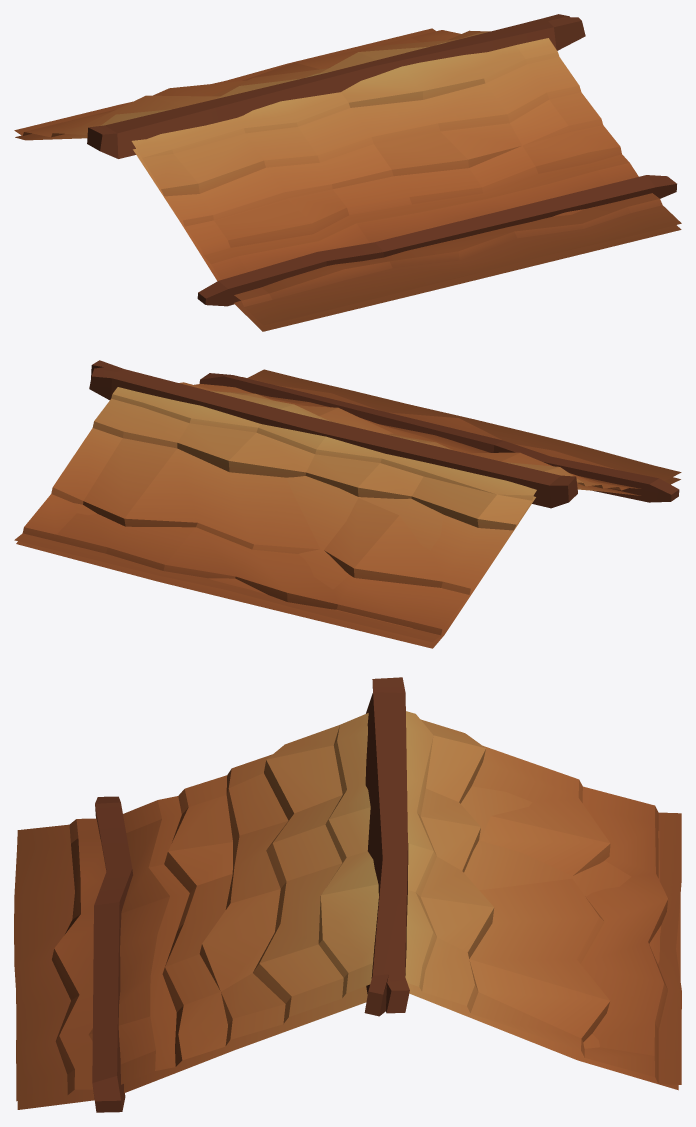
The model's file is Shanty Preset 07 Roof.fbx.
3 views of the same model, one above another, from view 1: azimuth 30°, elevation 25°; view 2: azimuth 150°, elevation 25°; view 3: azimuth 270°, elevation 25° (orthographic). The views are drawn at different scales.
Parts seen in each view (by area): view 1: Shanty Preset 07 Roof high, Shanty Preset 07 Roof low; view 2: Shanty Preset 07 Roof high, Shanty Preset 07 Roof low; view 3: Shanty Preset 07 Roof high, Shanty Preset 07 Roof low.
Part boxes in pixels (box(x1,y1,x2,y2)): Shanty Preset 07 Roof high: box(14, 14, 681, 325); Shanty Preset 07 Roof low: box(15, 95, 681, 331); Shanty Preset 07 Roof high: box(14, 360, 681, 642); Shanty Preset 07 Roof low: box(16, 476, 680, 648); Shanty Preset 07 Roof high: box(14, 677, 681, 1112); Shanty Preset 07 Roof low: box(16, 786, 680, 1109).
Size of the model in its own units: 6.06 by 1.27 by 5.41.
Materials: 1 (1 with a texture image).
